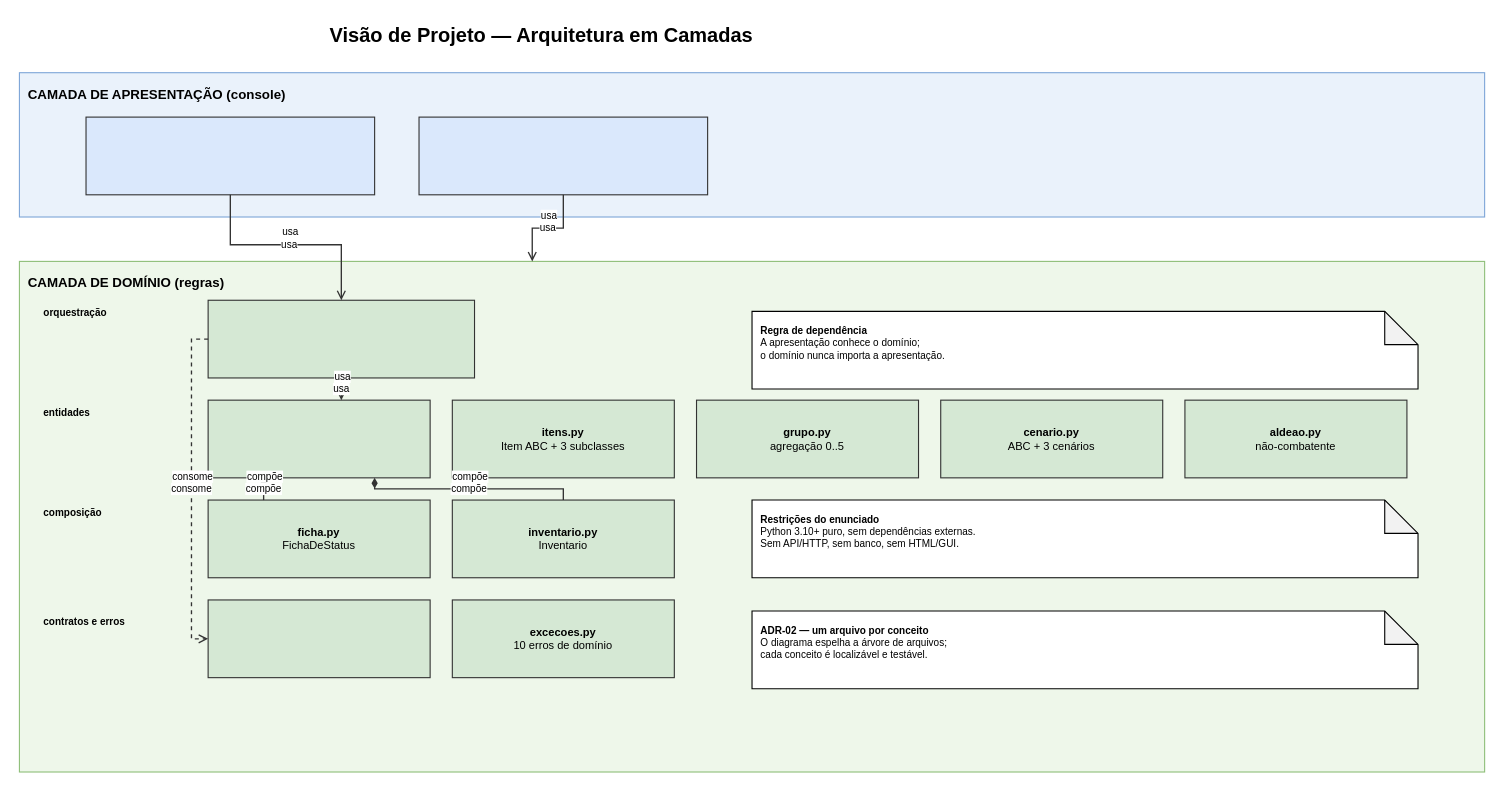
Some shapes in this 1504 by 791 pixel diagram are drawn without their labels. Here are the shapes that lost their labels. From the top down, the centre of each, then its label:
the point at 230,155: cli.py menu · input()/print()
the point at 563,155: demo.py roteiro fixo
the point at 341,338: combate.py turnos · bônus · XP
the point at 318,438: personagem.py ABC + 3 subclasses
the point at 318,638: interfaces.py Combatente (interface)
